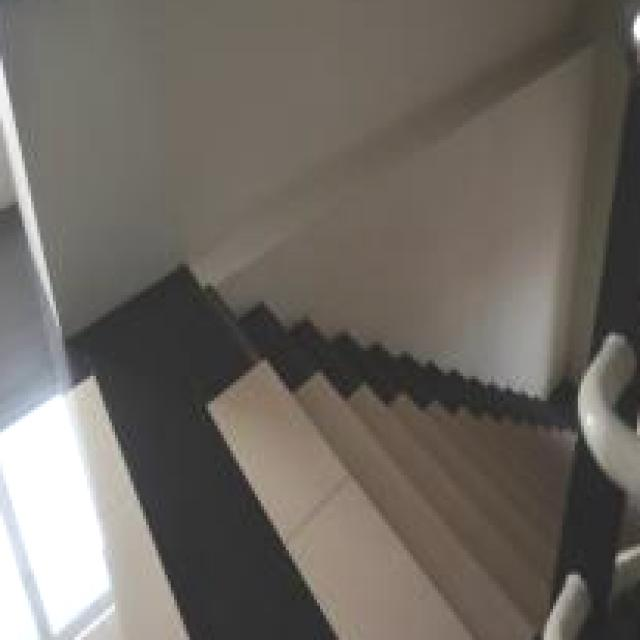downstair: (178, 349, 539, 640)
